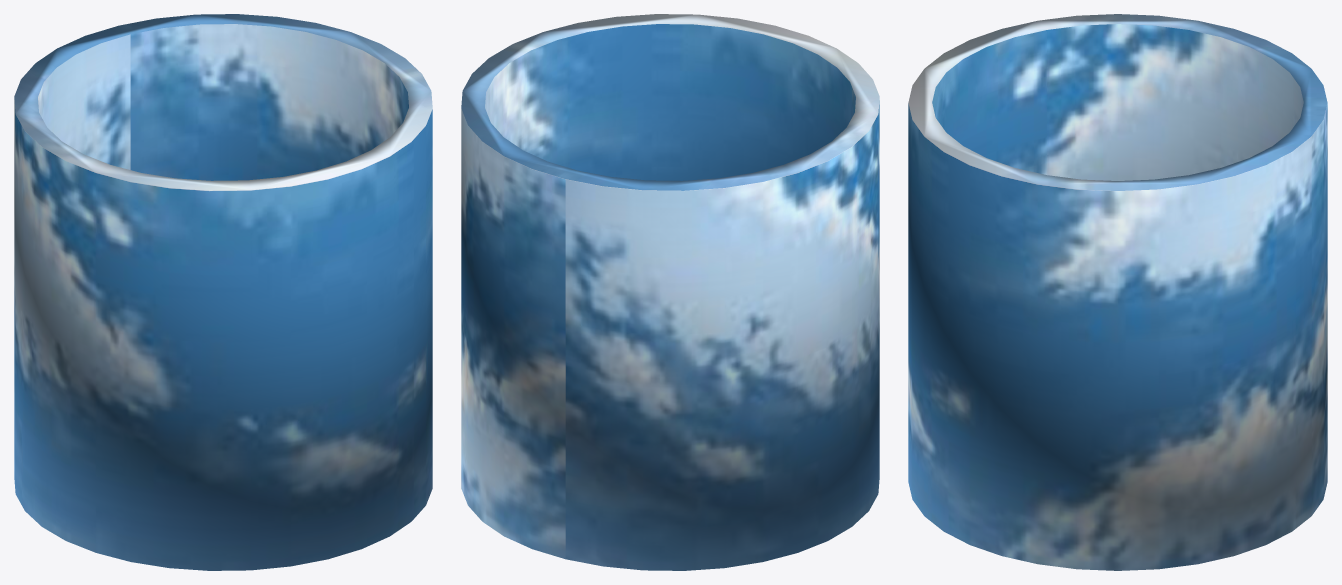
File: sky.gltf
The picture shows the model from 3 angles, left to right: view 1: azimuth 30°, elevation 25°; view 2: azimuth 150°, elevation 25°; view 3: azimuth 270°, elevation 25°; orthographic projection.
Visible parts, largest first — view 1: 円柱; view 2: 円柱; view 3: 円柱.
Part boxes in pixels (x1,y1,x2,y2): 円柱: (14, 14, 432, 570); 円柱: (461, 14, 879, 570); 円柱: (908, 14, 1327, 570).
Size of the model in its own units: 17.72 by 17.72 by 17.72.
1 material, 1 textured.
